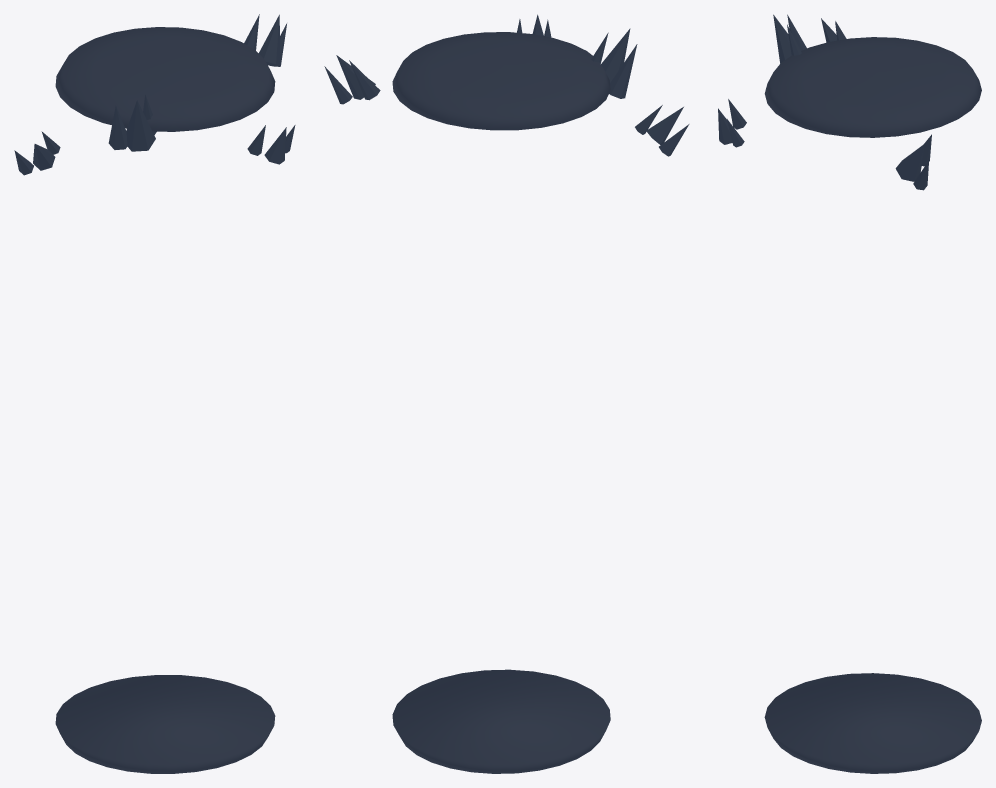
Rendered from globe_ice_props.glb.
3 views of the same model, side by side, from view 1: azimuth 30°, elevation 25°; view 2: azimuth 150°, elevation 25°; view 3: azimuth 270°, elevation 25° (orthographic).
Visible parts, largest first — view 1: gprop_cap_n_ol, gprop_cap_s_ol, gprop_greenland_c0_ol, gprop_siberia_c0_ol, gprop_greenland_c1_ol; view 2: gprop_cap_s_ol, gprop_cap_n_ol, gprop_greenland_c1_ol, gprop_greenland_c0_ol; view 3: gprop_cap_s_ol, gprop_cap_n_ol, gprop_siberia_c0_ol, gprop_greenland_c0_ol.
Part boxes in pixels (x1,y1,x2,y2): gprop_cap_n_ol: [55, 27, 275, 131]; gprop_cap_s_ol: [55, 675, 275, 773]; gprop_greenland_c0_ol: [126, 100, 155, 151]; gprop_siberia_c0_ol: [258, 14, 280, 66]; gprop_greenland_c1_ol: [108, 105, 127, 149]; gprop_cap_s_ol: [392, 669, 610, 773]; gprop_cap_n_ol: [392, 32, 610, 130]; gprop_greenland_c1_ol: [609, 44, 637, 98]; gprop_greenland_c0_ol: [601, 28, 630, 82]; gprop_cap_s_ol: [764, 673, 981, 773]; gprop_cap_n_ol: [764, 37, 981, 137]; gprop_siberia_c0_ol: [895, 143, 924, 181]; gprop_greenland_c0_ol: [773, 14, 791, 63].
Size of the model in its own units: 1.04 by 2.16 by 0.7504.
